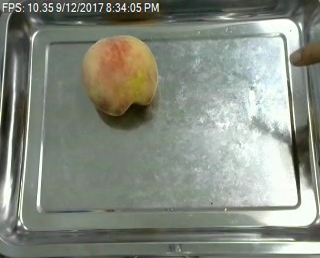Peach: (82, 34, 159, 117)
